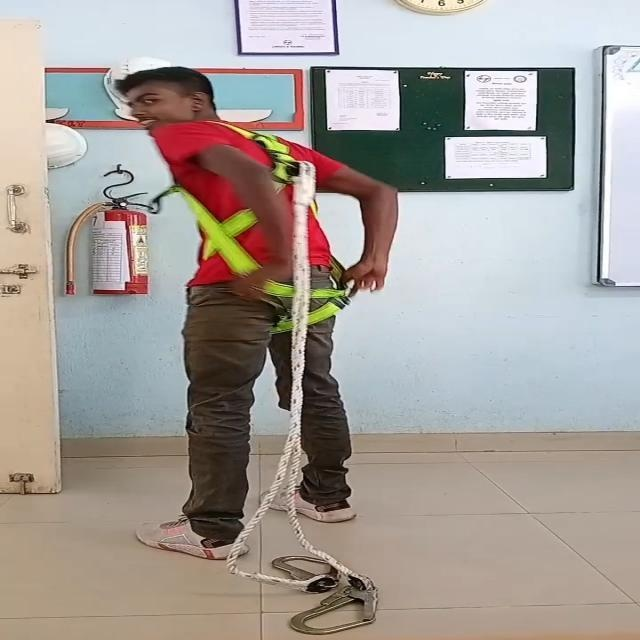Arnes_seguridad: (154, 118, 366, 352)
